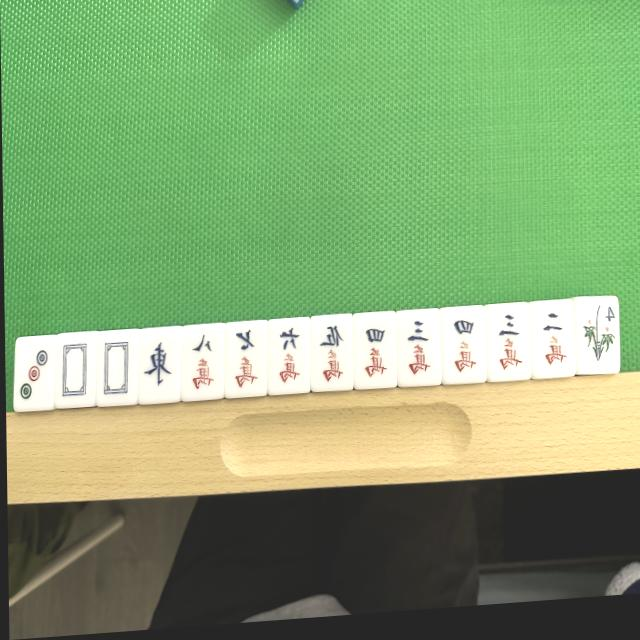2C: (531, 300, 575, 379)
3C: (487, 302, 531, 381), (399, 309, 440, 387)
3D: (17, 335, 55, 410)
4C: (353, 311, 398, 390), (442, 305, 486, 385)
4F: (576, 296, 618, 373)
5C: (311, 315, 353, 393)
6C: (268, 318, 310, 395)
7C: (226, 320, 266, 398)
8C: (182, 324, 224, 402)
EW: (139, 326, 180, 405)
WD: (98, 331, 137, 407), (57, 332, 95, 409)
